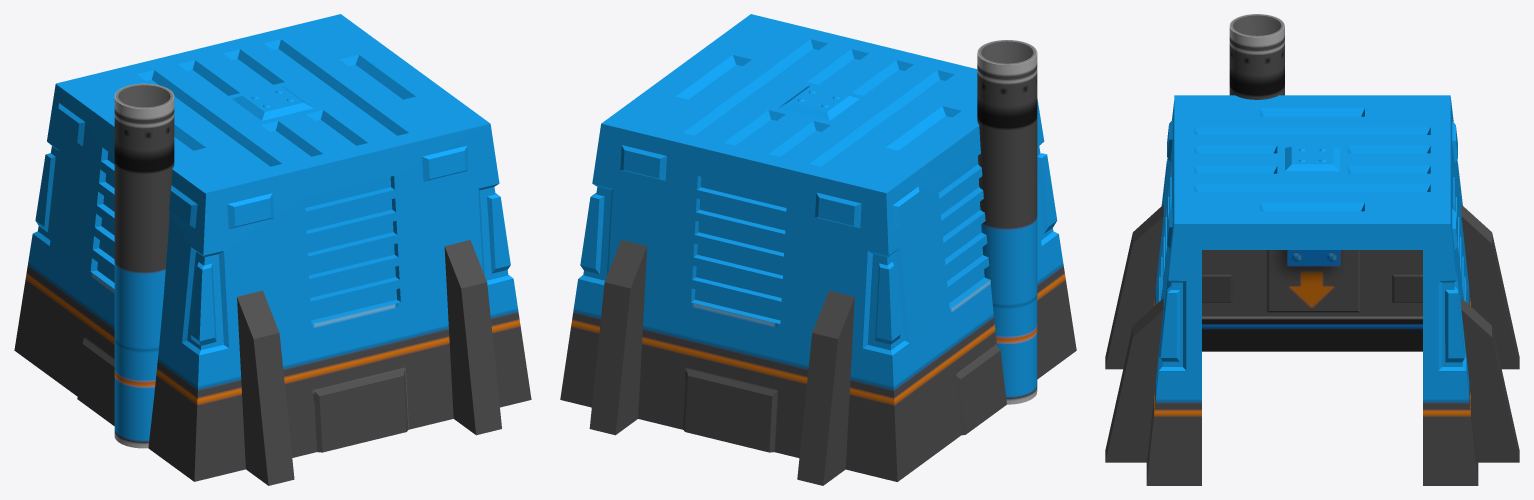
File: factory1.gltf
The picture shows the model from 3 angles, left to right: view 1: azimuth 30°, elevation 25°; view 2: azimuth 150°, elevation 25°; view 3: azimuth 270°, elevation 25°; orthographic projection. The views are drawn at different scales.
Parts seen in each view (by area): view 1: factory1; view 2: factory1; view 3: factory1.
Part boxes in pixels (x1,y1,x2,y2): factory1: (14,14,531,485); factory1: (560,14,1076,485); factory1: (1105,14,1519,485).
Size of the model in its own units: 27.22 by 25 by 30.
